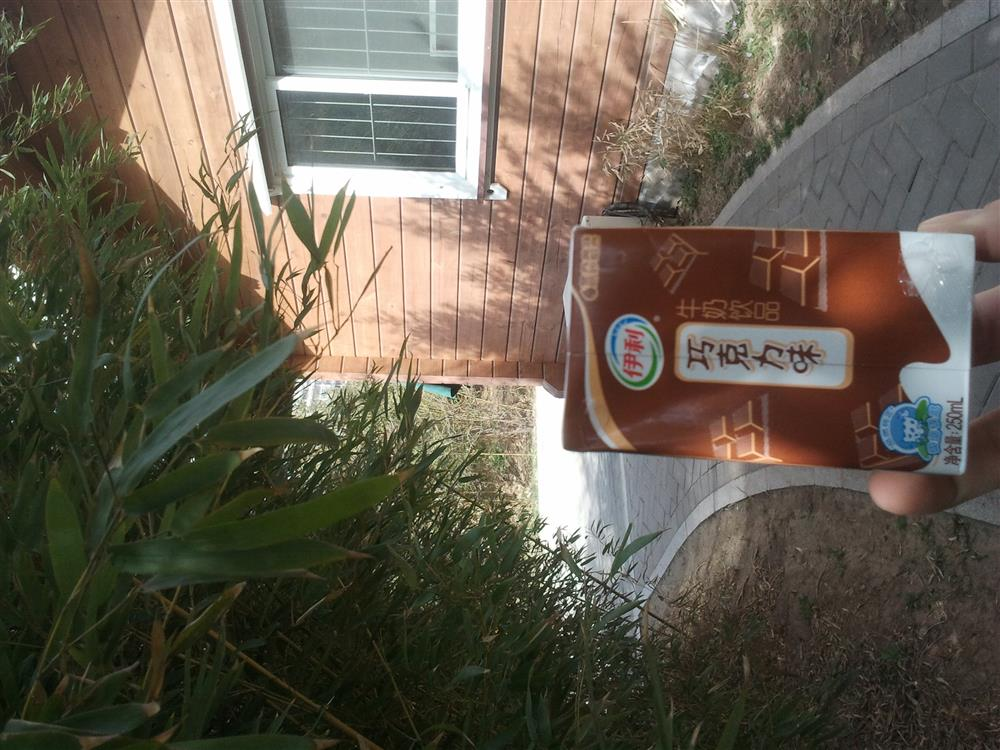Yeale: (560, 222, 973, 478)
